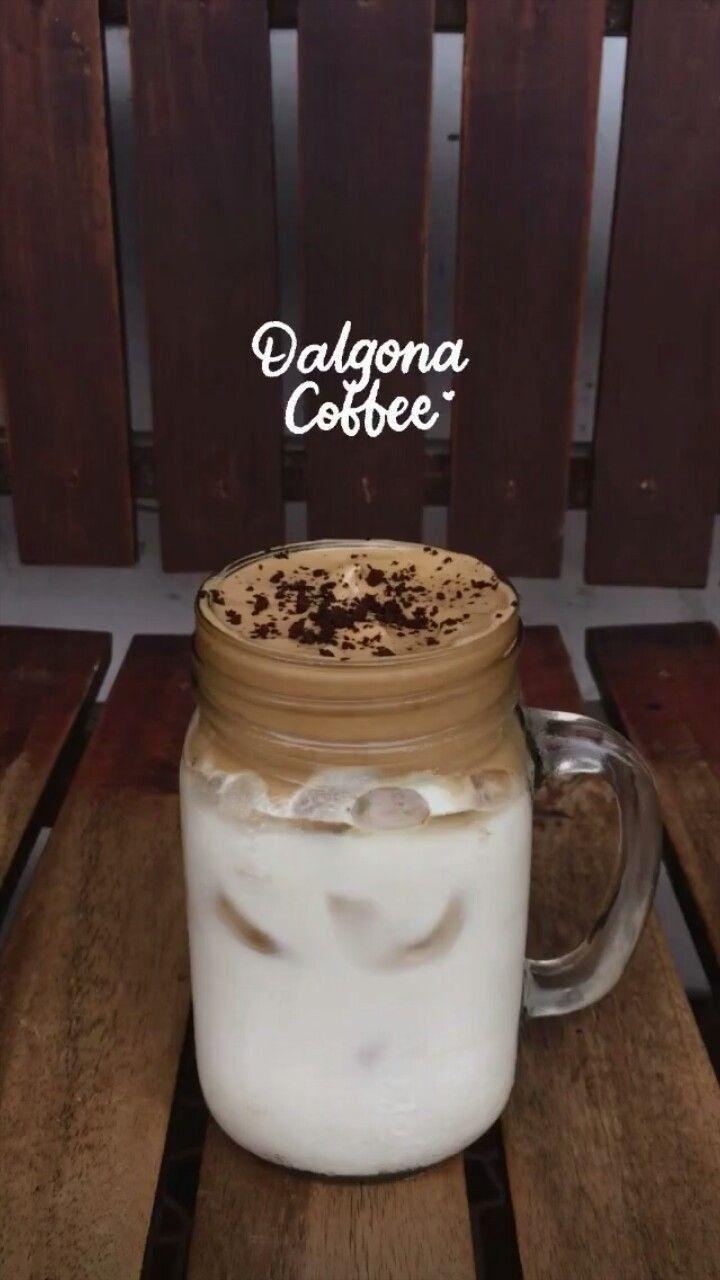glass-mug: (170, 532, 669, 1182)
